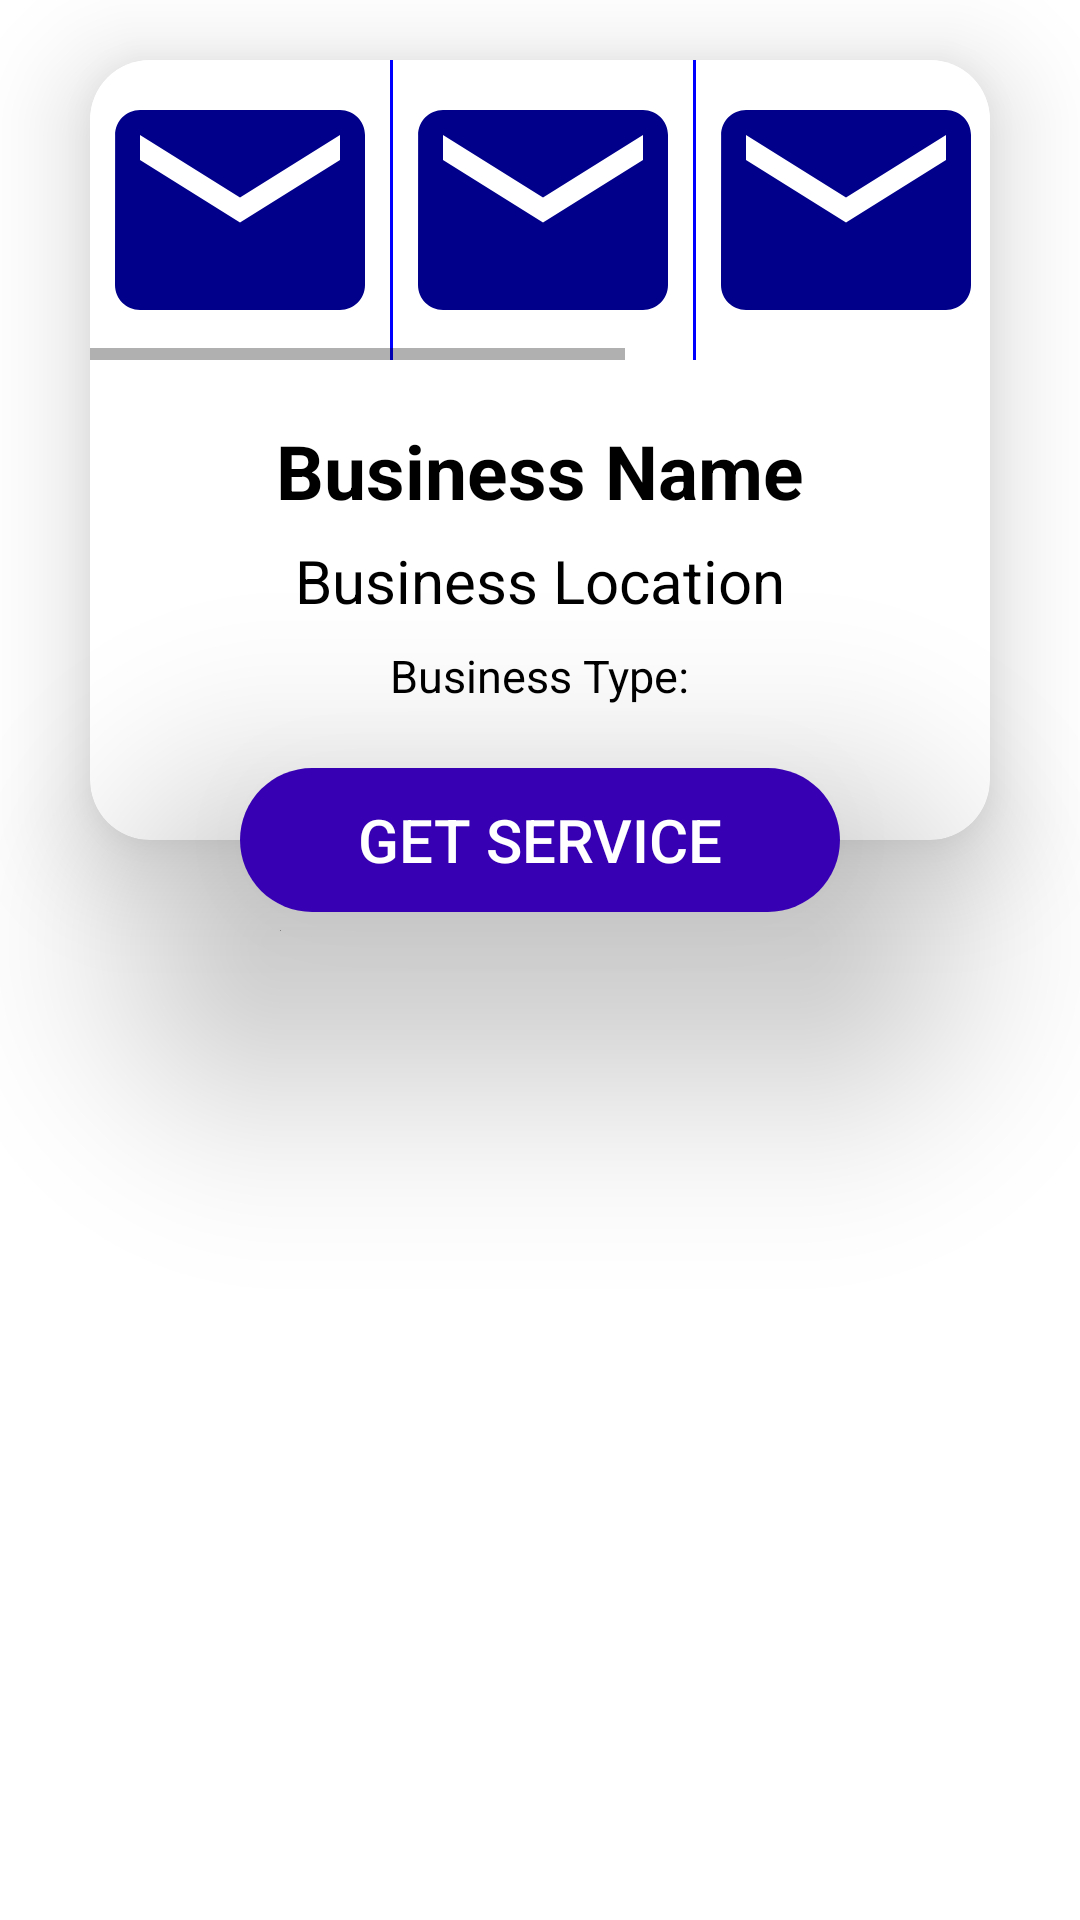

Locate icon controls on the screen. Image size 1080x1920, boxes as (left=x1, top=y1, right=x2, bottom=y2).
email: (left=115, top=110, right=365, bottom=310), (left=418, top=110, right=668, bottom=310), (left=721, top=110, right=971, bottom=310)
